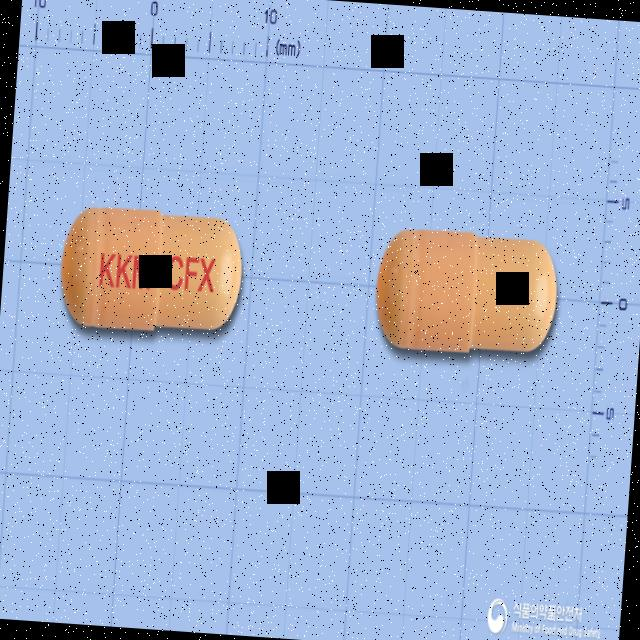Cefick Cap: (55, 198, 250, 346)
